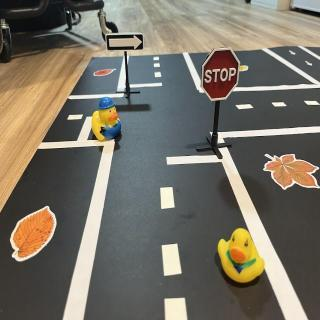duck_regular: (218, 230, 266, 289)
duck_specialty: (93, 98, 122, 142)
sign_oneway_right: (108, 34, 145, 52)
sign_stop: (203, 48, 242, 102)
